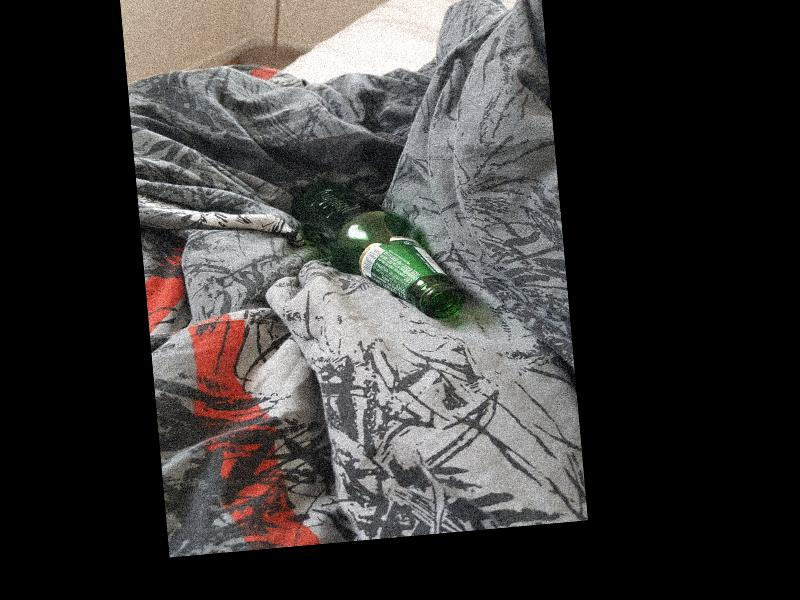Beer: (288, 171, 464, 331)
